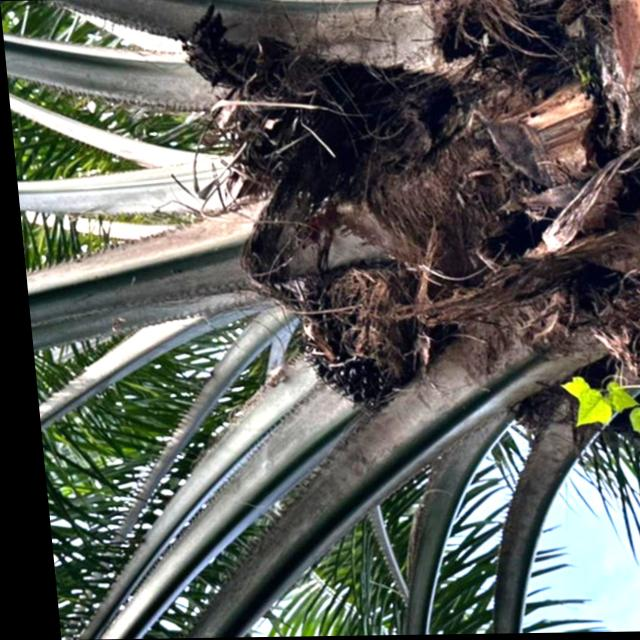unripe: (277, 248, 447, 417)
